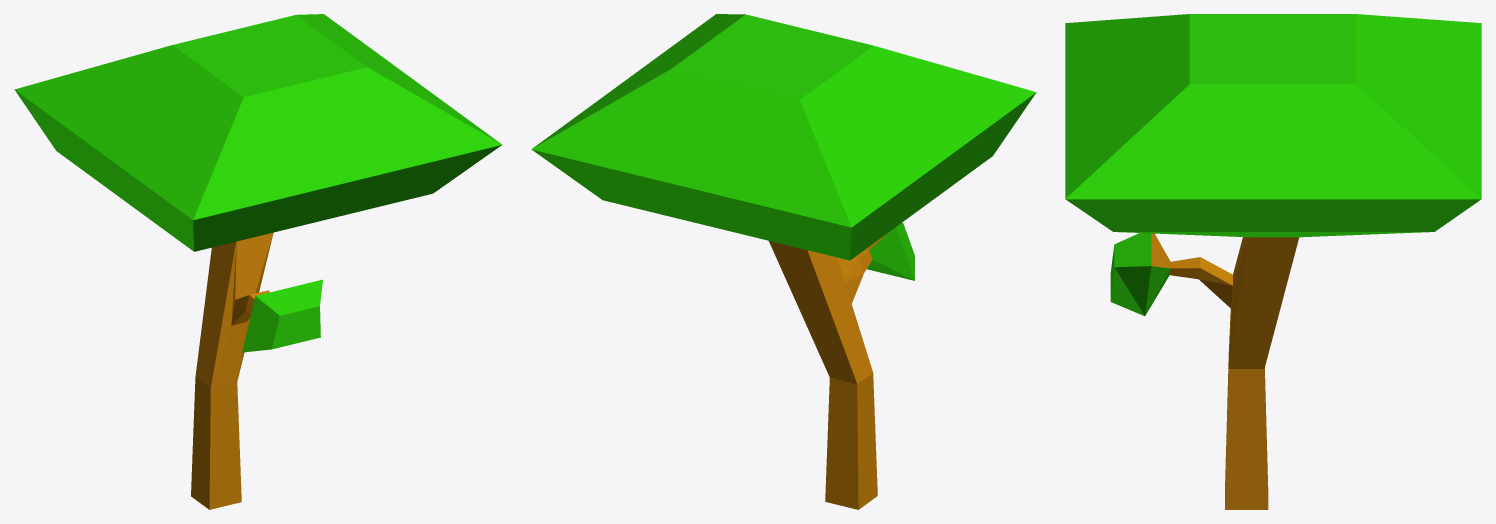
Rendered from tree3.dae.
The picture shows the model from 3 angles, left to right: view 1: azimuth 30°, elevation 25°; view 2: azimuth 150°, elevation 25°; view 3: azimuth 270°, elevation 25°; orthographic projection. The views are drawn at different scales.
Visible parts, largest first — view 1: Cube; view 2: Cube; view 3: Cube.
Boxes of the visible parts, x1,y1,x2,y2 form: Cube: (14, 14, 502, 509); Cube: (531, 14, 1036, 509); Cube: (1065, 14, 1481, 509).
Bounding box in the file's own units: 19.19 × 19.19 × 24.83.
